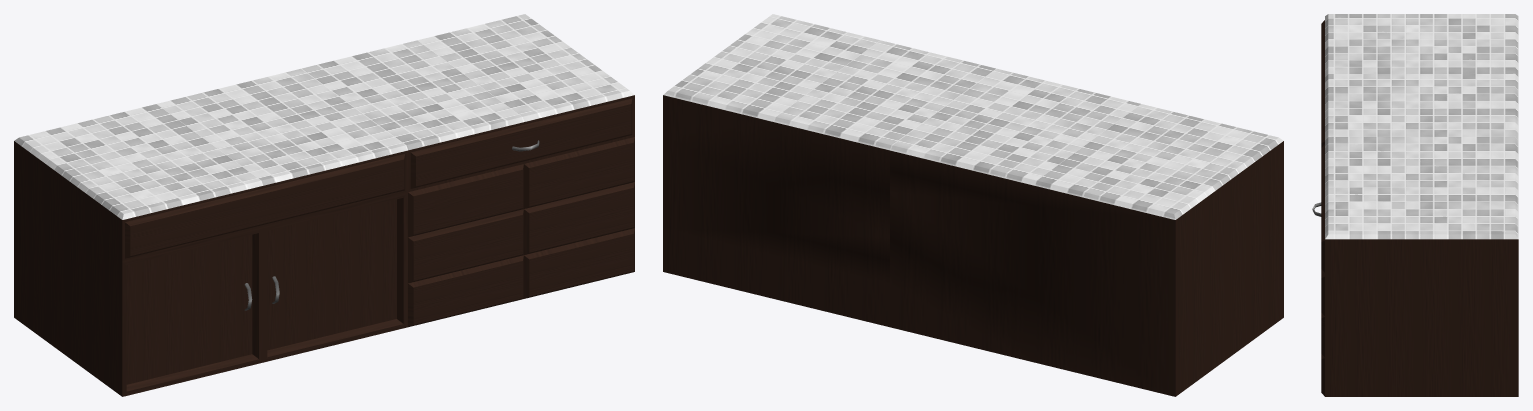
File: Kitchen_Counter_A2.FBX
3 views of the same model, side by side, from view 1: azimuth 30°, elevation 25°; view 2: azimuth 150°, elevation 25°; view 3: azimuth 270°, elevation 25° (orthographic). The views are drawn at different scales.
Parts seen in each view (by area): view 1: Kitchen_Counter_A; view 2: Kitchen_Counter_A; view 3: Kitchen_Counter_A.
Part boxes in pixels (x1=…): Kitchen_Counter_A: x1=14, y1=14, x2=634, y2=396; Kitchen_Counter_A: x1=663, y1=14, x2=1283, y2=396; Kitchen_Counter_A: x1=1312, y1=14, x2=1518, y2=396.
Size of the model in its own units: 409 by 138 by 160.
